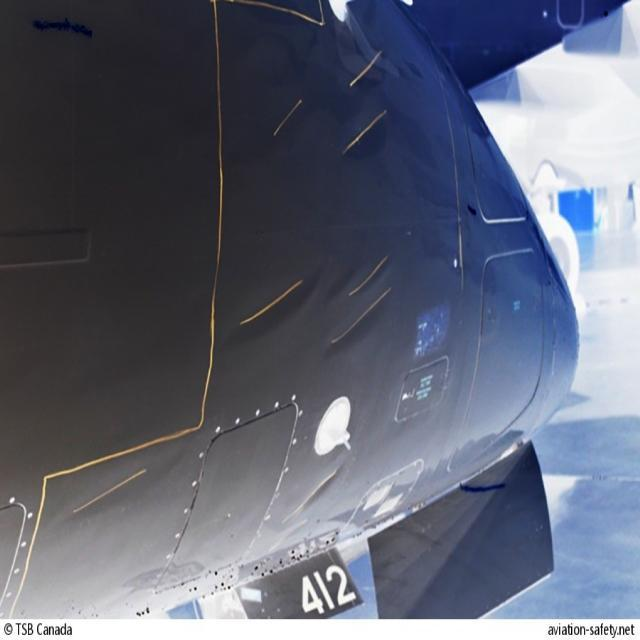dent: (341, 110, 395, 165)
